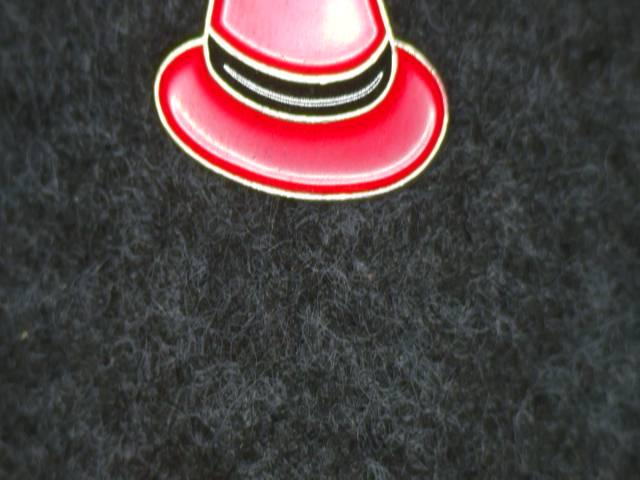Red-Hat: (140, 0, 470, 223)
